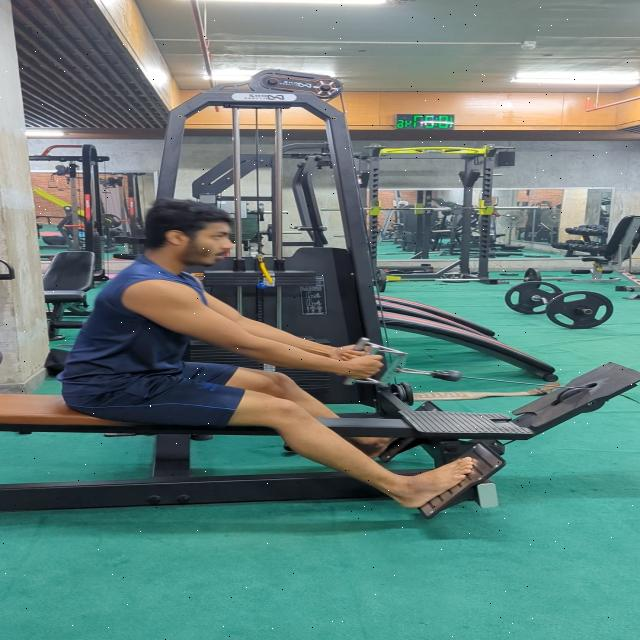Normal_RowingMachineExercise: (57, 198, 476, 507)
